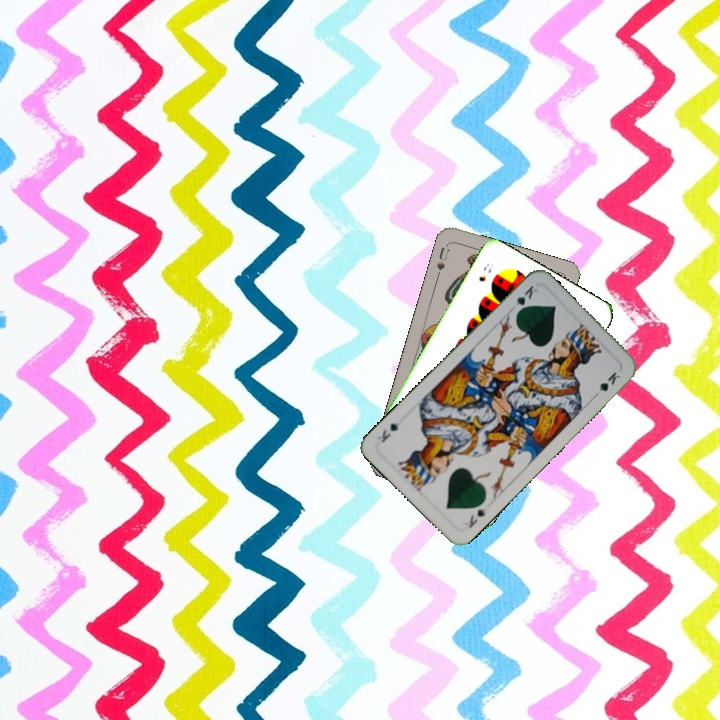GK: (512, 281, 540, 317), (464, 504, 490, 531)
S8: (475, 260, 496, 284)
SU: (432, 243, 452, 280)
